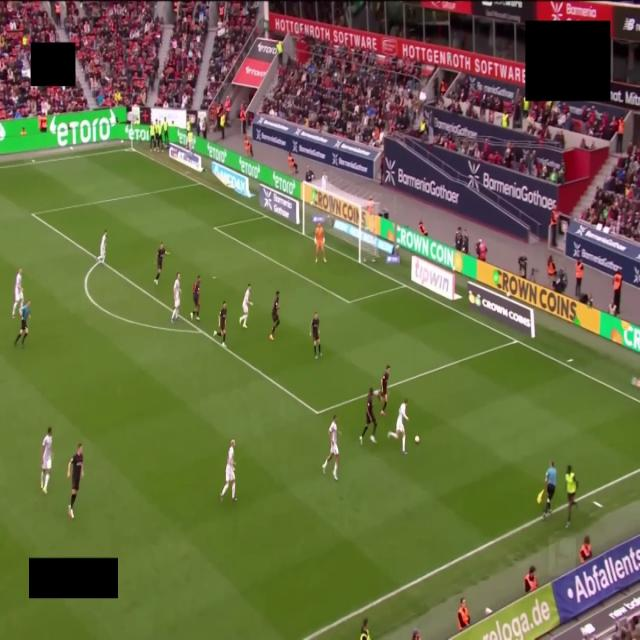ball: (415, 436, 419, 444)
player: (67, 444, 83, 519), (322, 415, 339, 480), (388, 400, 408, 454), (221, 440, 236, 501), (360, 388, 376, 444), (375, 365, 390, 415), (41, 427, 52, 494), (239, 284, 253, 328), (213, 302, 226, 348), (155, 243, 169, 284), (12, 269, 23, 318), (310, 312, 321, 359), (315, 223, 327, 262), (270, 291, 279, 341), (171, 272, 180, 322), (191, 275, 200, 320), (97, 230, 107, 263)
referee: (15, 300, 30, 347)
